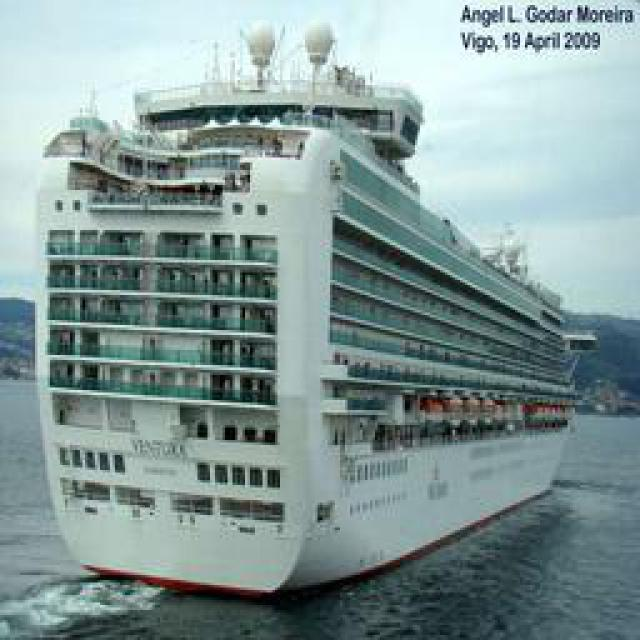Ship: (31, 68, 581, 616)
